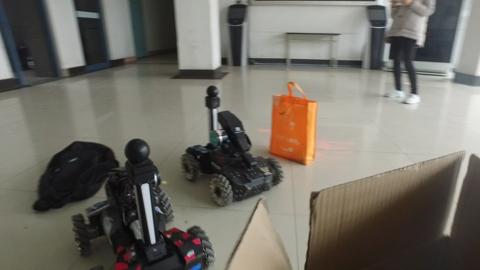bag: (268, 79, 318, 167)
chariot: (74, 138, 217, 269), (179, 84, 287, 207)
